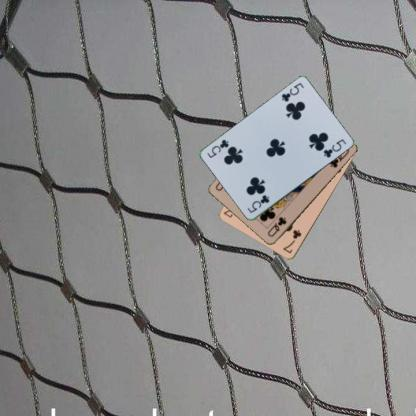5c: (279, 80, 305, 104), (244, 192, 270, 214)
7c: (280, 227, 303, 255)
Qc: (265, 214, 288, 238)
